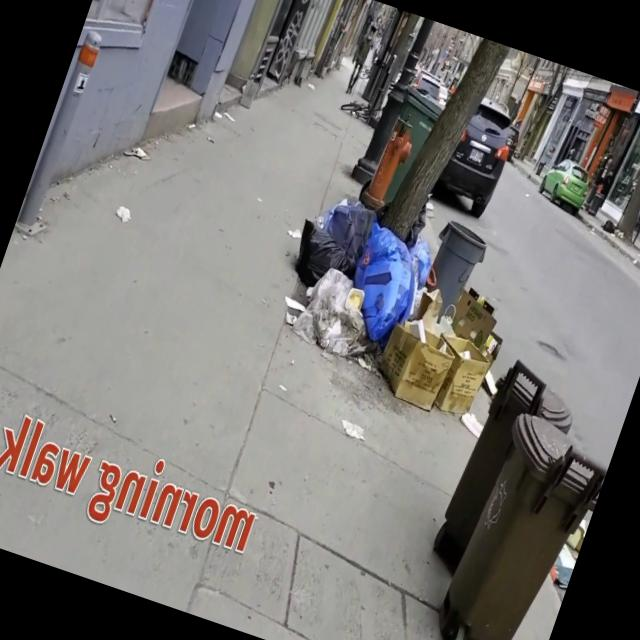high trash: (284, 199, 500, 435)
less trash: (554, 519, 589, 589), (342, 420, 363, 440), (123, 146, 149, 161), (115, 205, 130, 222)
